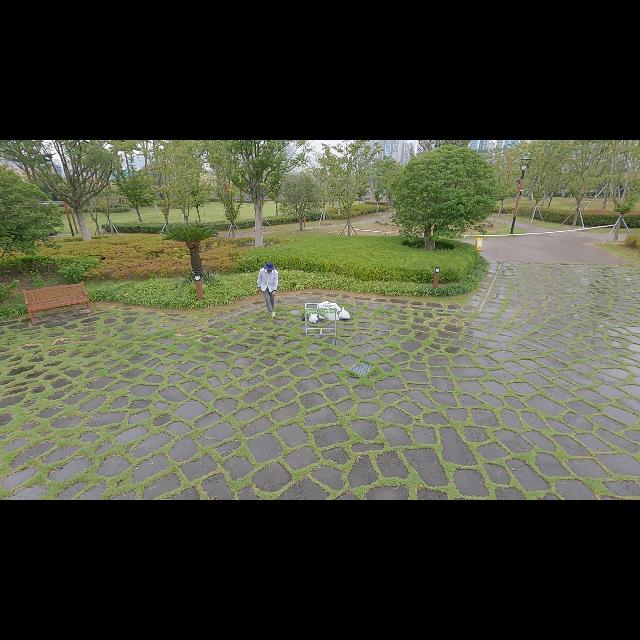trash: (258, 261, 278, 319), (338, 306, 350, 320), (308, 313, 318, 323), (301, 313, 307, 321), (319, 314, 326, 320)
